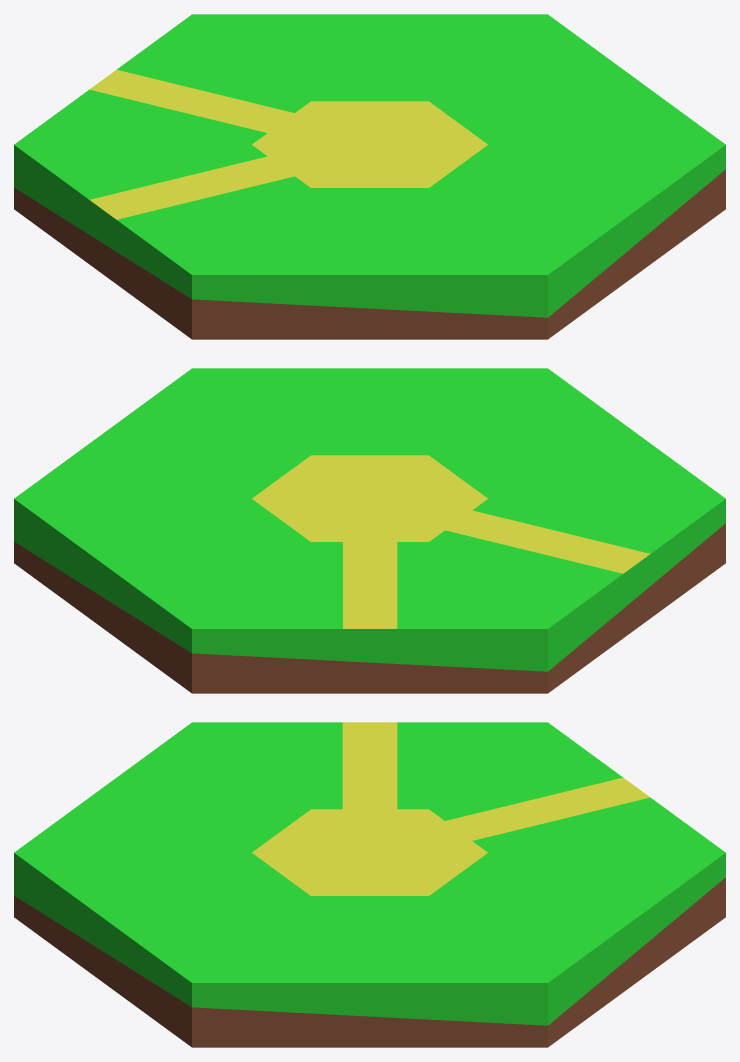
File: pathTile2.fbx
3 views of the same model, one above another, from view 1: azimuth 30°, elevation 25°; view 2: azimuth 150°, elevation 25°; view 3: azimuth 270°, elevation 25° (orthographic).
Parts seen in each view (by area): view 1: CylinderPathNode.004; view 2: CylinderPathNode.004; view 3: CylinderPathNode.004.
Part boxes in pixels (<box>): CylinderPathNode.004: <box>14,14,725,339</box>; CylinderPathNode.004: <box>14,368,725,693</box>; CylinderPathNode.004: <box>14,722,725,1047</box>.
Size of the model in its own units: 173 by 40 by 200.
